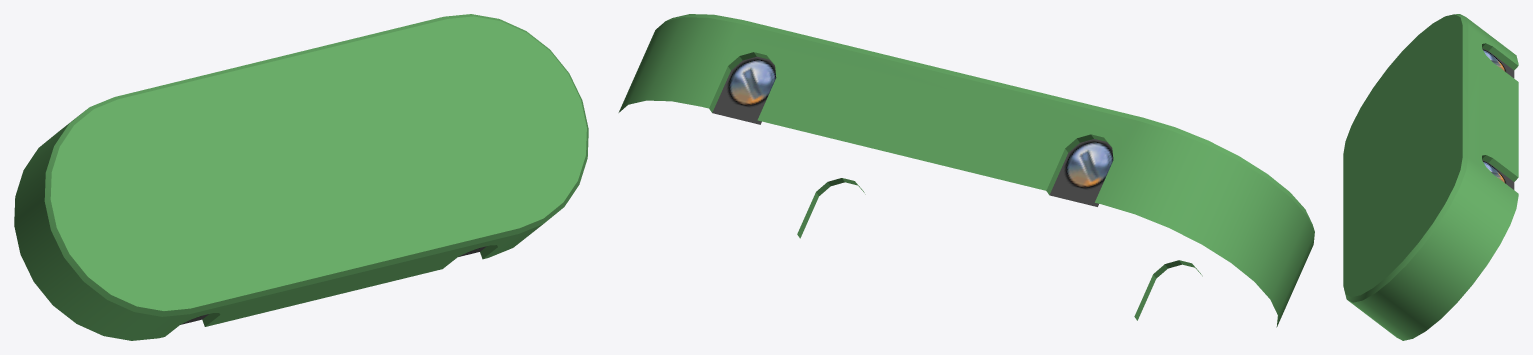
3 renders of one model, left to right at view 1: azimuth 30°, elevation 25°; view 2: azimuth 150°, elevation 25°; view 3: azimuth 270°, elevation 25°, orthographic. The views are drawn at different scales.
Parts seen in each view (by area): view 1: Joint_0_Object_0; view 2: Joint_0_Object_0, Joint_0_Object_1; view 3: Joint_0_Object_0, Joint_0_Object_1.
Boxes of the visible parts, box(x1,y1,x2,y2) form: Joint_0_Object_0: box(14, 14, 588, 340); Joint_0_Object_0: box(618, 14, 1314, 327); Joint_0_Object_1: box(712, 56, 1113, 206); Joint_0_Object_0: box(1343, 14, 1518, 340); Joint_0_Object_1: box(1482, 48, 1514, 189).
Bounding box in the file's own units: 475 × 178 × 165.
2 materials, 1 textured.
